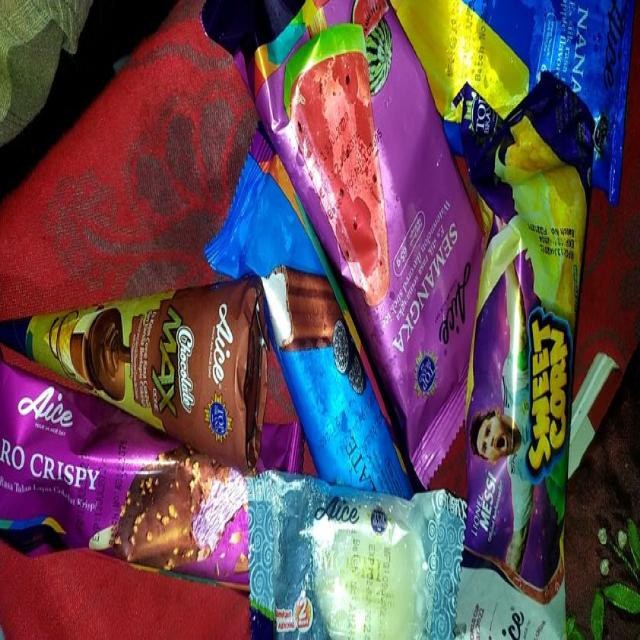KemasanPlastik: (201, 0, 489, 491), (454, 60, 594, 640), (242, 456, 466, 640)
